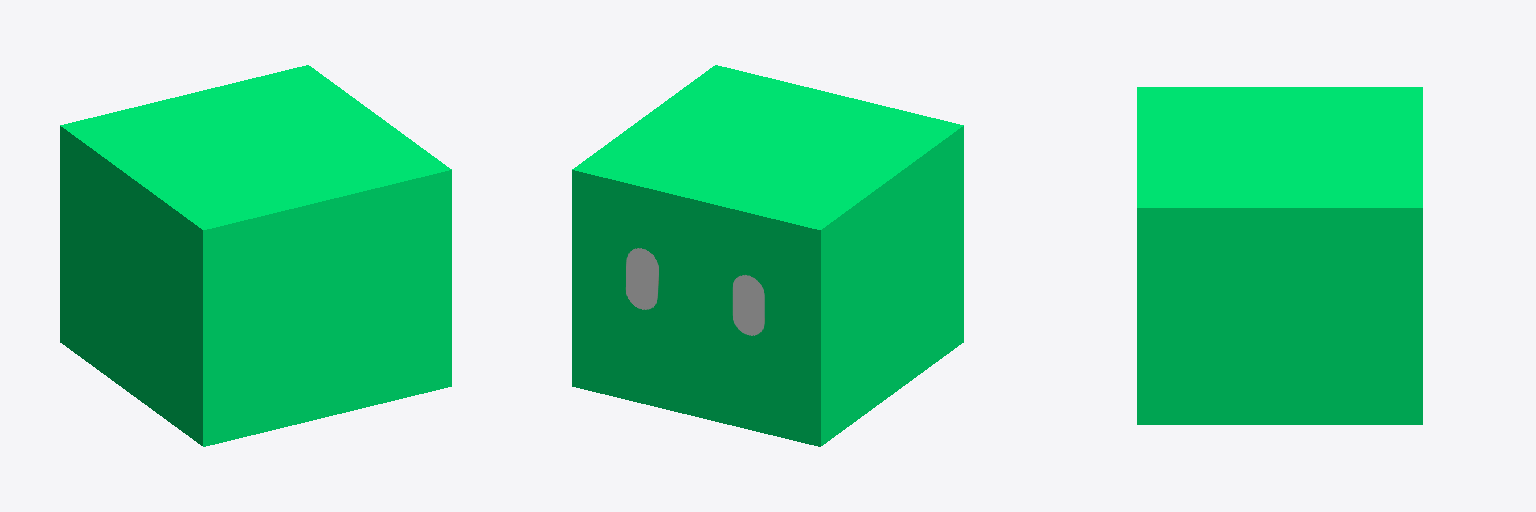
3 renders of one model, left to right at view 1: azimuth 30°, elevation 25°; view 2: azimuth 150°, elevation 25°; view 3: azimuth 270°, elevation 25°, orthographic.
Visible parts, largest first — view 1: 立方体.003; view 2: 立方体.003; view 3: 立方体.003.
Boxes of the visible parts, box(x1,y1,x2,y2) form: 立方体.003: box(60, 65, 451, 446); 立方体.003: box(572, 65, 963, 446); 立方体.003: box(1137, 87, 1422, 424).
Size of the model in its own units: 1.32 by 1.1 by 1.32.
Materials: 1 (1 with a texture image).